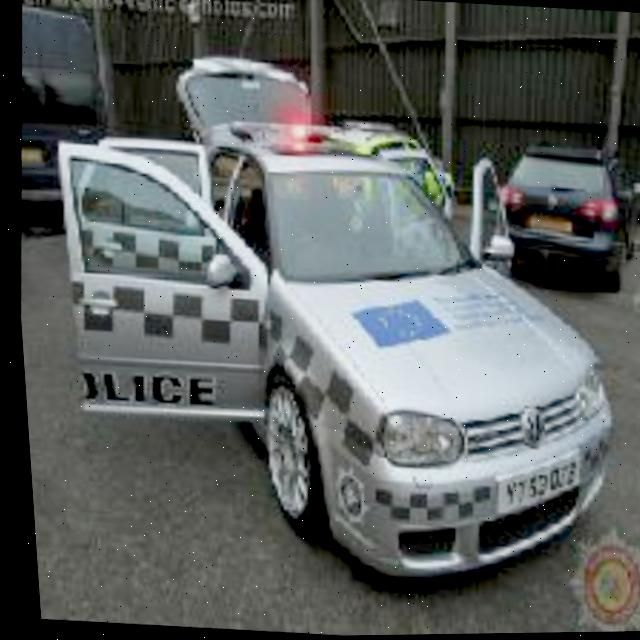emergency: (26, 76, 638, 608)
